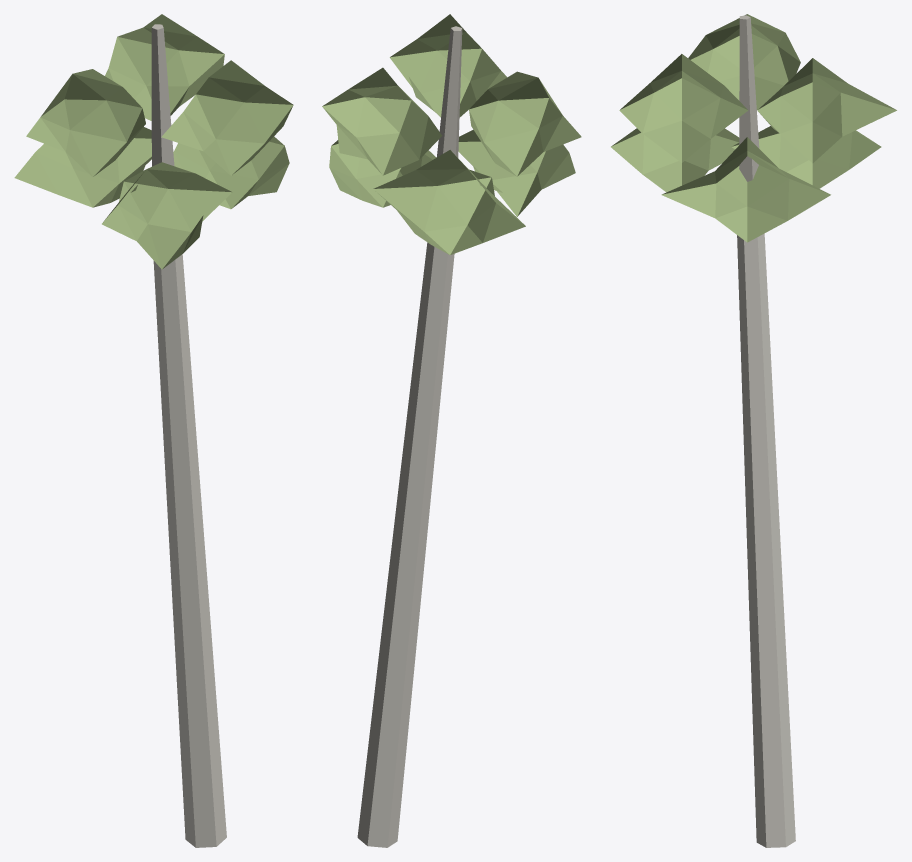
The model's file is birch_v20.glb.
3 renders of one model, left to right at view 1: azimuth 30°, elevation 25°; view 2: azimuth 150°, elevation 25°; view 3: azimuth 270°, elevation 25°, orthographic. The views are drawn at different scales.
Visible parts, largest first — view 1: lod0; view 2: lod0; view 3: lod0.
Part boxes in pixels (x1,y1,x2,y2): lod0: (14,14,293,847); lod0: (322,14,581,847); lod0: (611,14,896,847).
Size of what is drawn, in the model's own units: 1.87 by 5.81 by 1.9.
